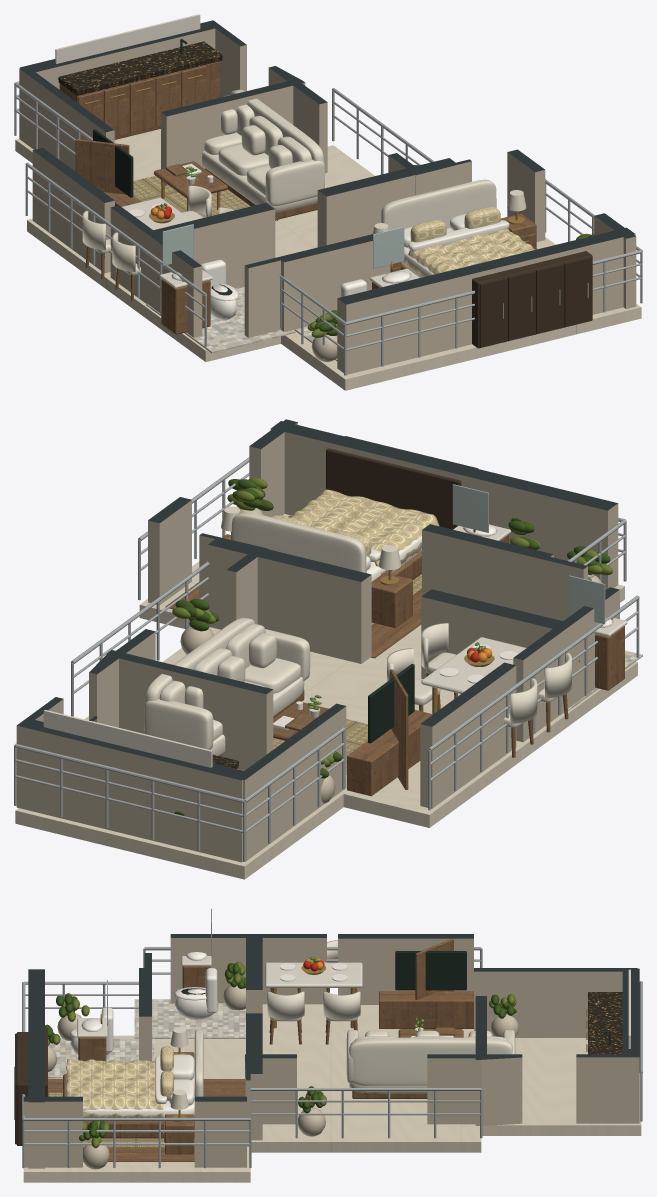
3 views of the same model, one above another, from view 1: azimuth 30°, elevation 25°; view 2: azimuth 150°, elevation 25°; view 3: azimuth 270°, elevation 25° (orthographic). The views are drawn at different scales.
Parts seen in each view (by area): view 1: Source-traced internal and perimeter walls • Wall, Continuous apartment foundation, Padded headboard, Deep green kitchen stone, Soft jacquard duvet with folds, Backsplash, Rounded armrest.001, Bathroom mosaic floor, Oak entrance door, Walnut wardrobe door, Walnut wardrobe door.001, Walnut wardrobe door.003 (+29 smaller); view 2: Source-traced internal and perimeter walls • Wall, Continuous apartment foundation, Fitted dark wardrobe, Soft jacquard duvet with folds, Padded headboard, Walnut media console, Backsplash, Rounded armrest, Dining top, Television, Bedside cabinet, Vanity (+20 smaller); view 3: Source-traced internal and perimeter walls • Wall, Continuous apartment foundation, Sofa back, Soft jacquard duvet with folds, Walnut media console, Bathroom mosaic floor, Television, Deep green kitchen stone, Full bedroom wood flooring, Dining top, Bathroom mosaic floor.001, Fitted dark wardrobe (+25 smaller).
Boxes of the visible parts, left/top/right/bottom form: Source-traced internal and perimeter walls • Wall: left=19, top=20, right=636, bottom=374; Continuous apartment foundation: left=15, top=129, right=641, bottom=390; Padded headboard: left=381, top=179, right=496, bottom=230; Deep green kitchen stone: left=58, top=41, right=222, bottom=93; Soft jacquard duvet with folds: left=405, top=228, right=535, bottom=277; Backsplash: left=55, top=14, right=200, bottom=63; Rounded armrest.001: left=265, top=159, right=324, bottom=205; Bathroom mosaic floor: left=146, top=288, right=295, bottom=353; Oak entrance door: left=75, top=139, right=129, bottom=194; Walnut wardrobe door: left=479, top=277, right=507, bottom=347; Walnut wardrobe door.001: left=508, top=270, right=535, bottom=340; Walnut wardrobe door.003: left=564, top=257, right=591, bottom=327; Source-traced internal and perimeter walls • Wall: left=16, top=419, right=619, bottom=862; Continuous apartment foundation: left=15, top=514, right=637, bottom=879; Fitted dark wardrobe: left=326, top=436, right=477, bottom=529; Soft jacquard duvet with folds: left=291, top=489, right=439, bottom=574; Padded headboard: left=231, top=512, right=366, bottom=573; Walnut media console: left=347, top=710, right=432, bottom=796; Backsplash: left=43, top=710, right=212, bottom=767; Rounded armrest: left=144, top=699, right=213, bottom=749; Dining top: left=421, top=637, right=526, bottom=693; Television: left=368, top=664, right=414, bottom=743; Bedside cabinet: left=371, top=572, right=412, bottom=627; Vanity: left=595, top=626, right=624, bottom=690; Source-traced internal and perimeter walls • Wall: left=23, top=934, right=639, bottom=1168; Continuous apartment foundation: left=23, top=1004, right=641, bottom=1182; Sofa back: left=349, top=1037, right=512, bottom=1085; Soft jacquard duvet with folds: left=66, top=1059, right=163, bottom=1117; Walnut media console: left=379, top=991, right=473, bottom=1028; Bathroom mosaic floor: left=134, top=999, right=245, bottom=1038; Television: left=395, top=951, right=466, bottom=990; Deep green kitchen stone: left=588, top=992, right=622, bottom=1054; Full bedroom wood flooring: left=48, top=1079, right=244, bottom=1161; Dining top: left=265, top=962, right=362, bottom=987; Bathroom mosaic floor.001: left=48, top=1038, right=154, bottom=1078; Fitted dark wardrobe: left=16, top=1032, right=47, bottom=1145.
Bounding box in the file's own units: 6.58 × 1.7 × 9.66.
Materials: 25 (6 with a texture image).
